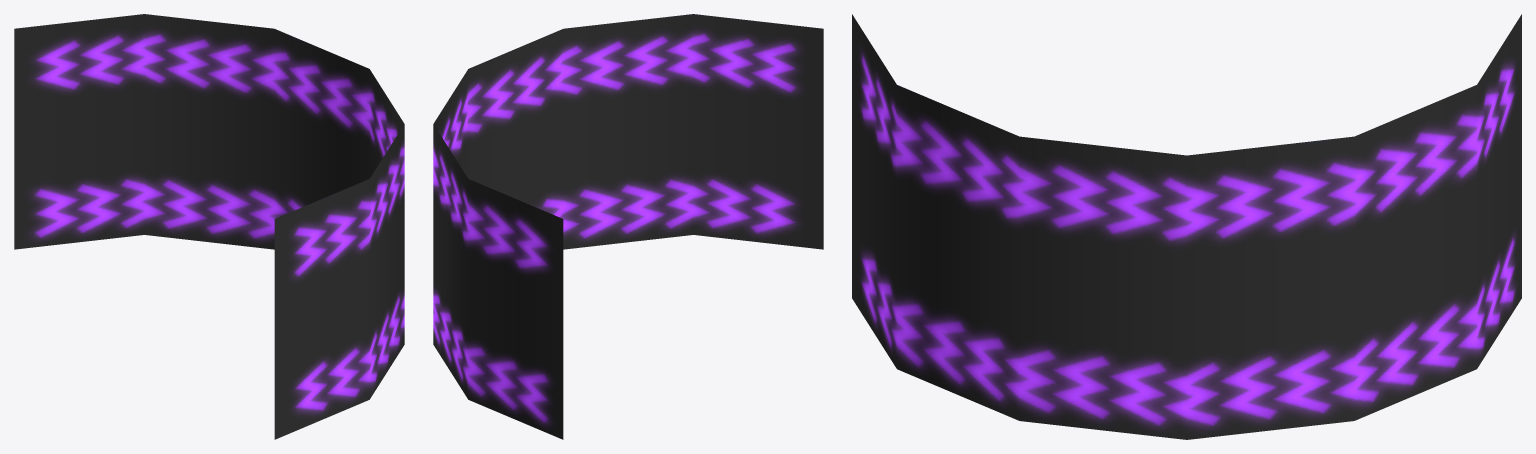
The model's file is Kabe_B_01.fbx.
3 views of the same model, side by side, from view 1: azimuth 30°, elevation 25°; view 2: azimuth 150°, elevation 25°; view 3: azimuth 270°, elevation 25° (orthographic). The views are drawn at different scales.
Visible parts, largest first — view 1: Kabe_B_01; view 2: Kabe_B_01; view 3: Kabe_B_01.
Part boxes in pixels (x1,y1,x2,y2): Kabe_B_01: (14,14,404,439); Kabe_B_01: (433,14,823,439); Kabe_B_01: (852,14,1521,439).
Bounding box in the file's own units: 598 × 561 × 1196.
Materials: 1 (1 with a texture image).
